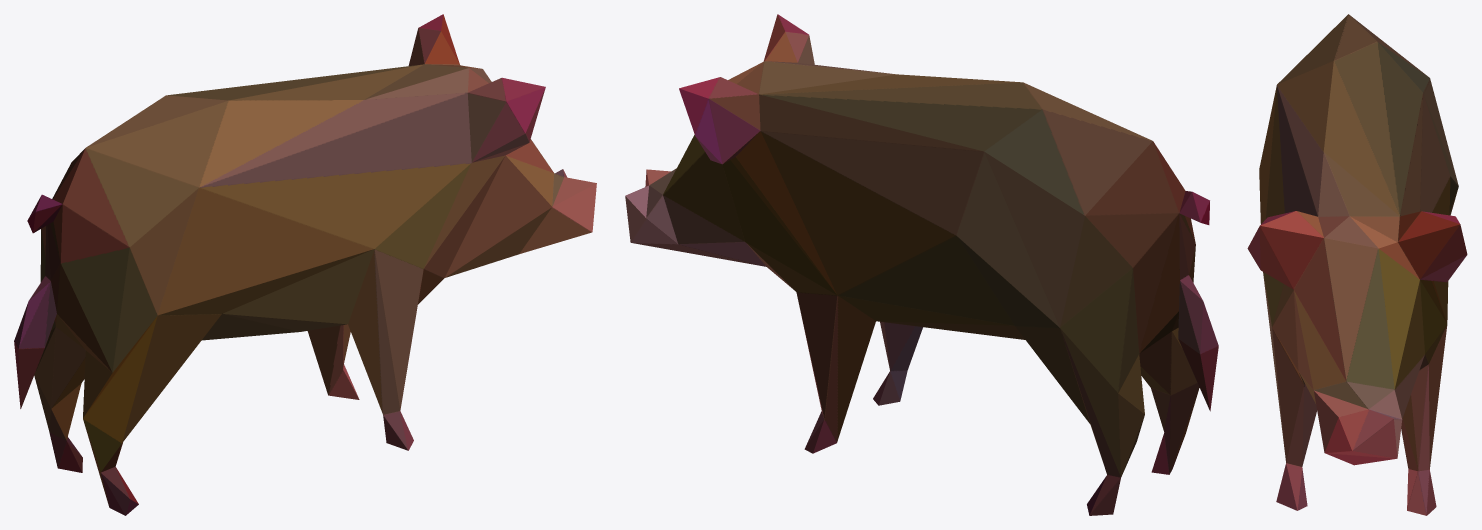
Rendered from boar.fbx.
The picture shows the model from 3 angles, left to right: view 1: azimuth 30°, elevation 25°; view 2: azimuth 150°, elevation 25°; view 3: azimuth 270°, elevation 25°; orthographic projection.
Parts seen in each view (by area): view 1: Mesh_0.001; view 2: Mesh_0.001; view 3: Mesh_0.001.
Part boxes in pixels (x1,y1,x2,y2): Mesh_0.001: (14,14,596,515); Mesh_0.001: (625,14,1218,515); Mesh_0.001: (1247,14,1467,515).
Bounding box in the file's own units: 170 × 105 × 56.32.
1 material, 1 textured.
